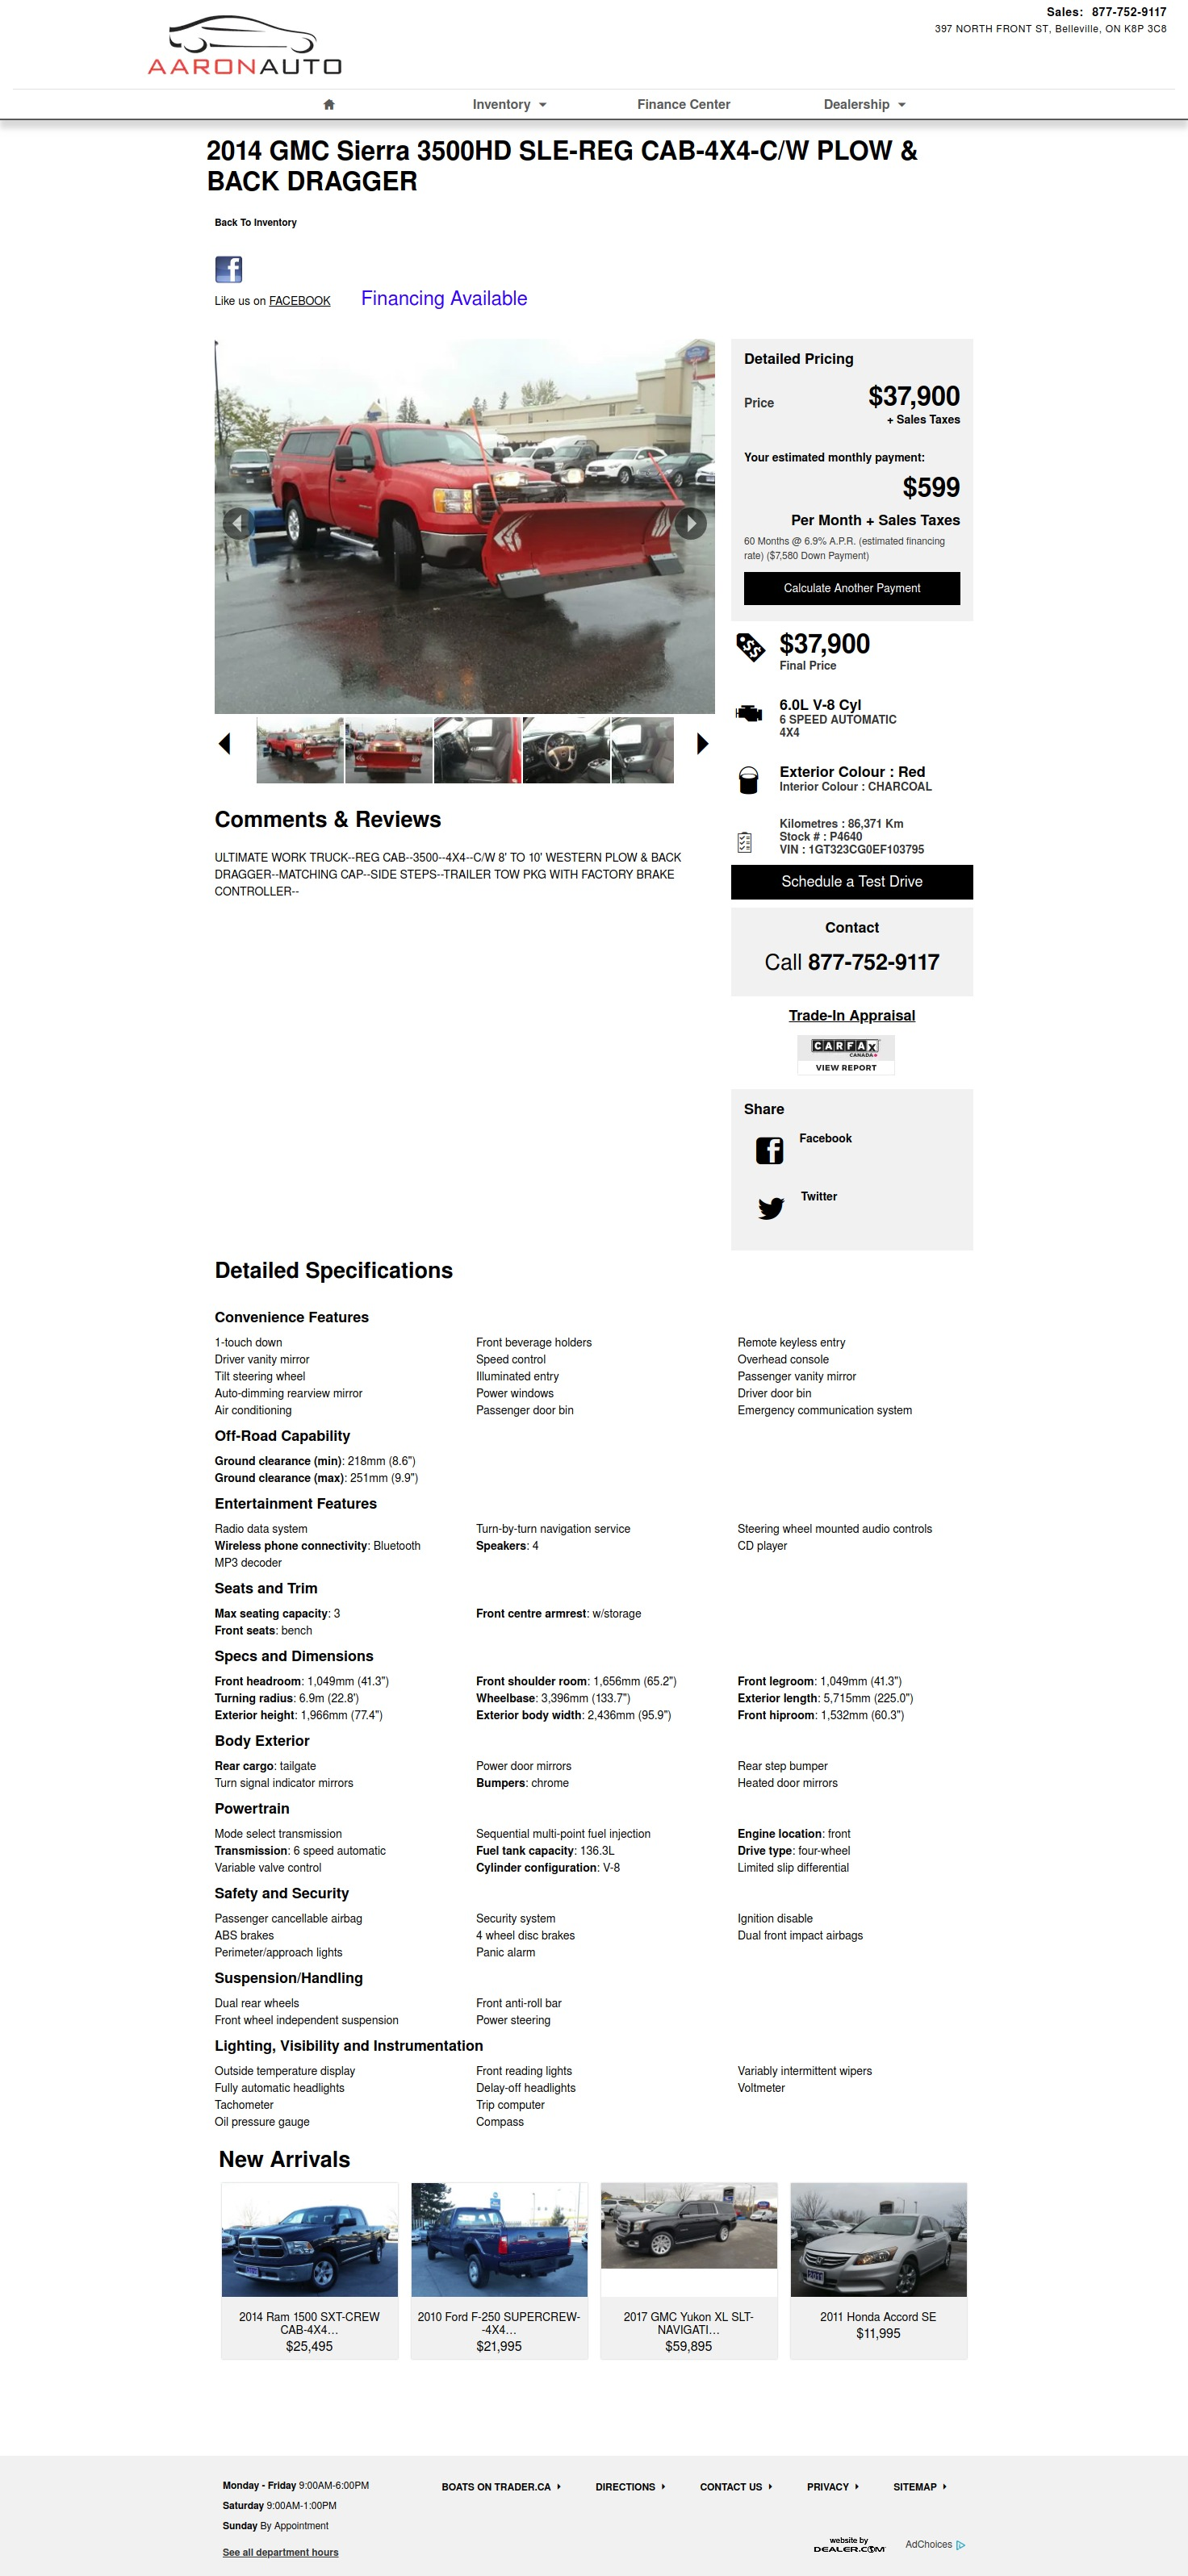car: (697, 731, 711, 757)
